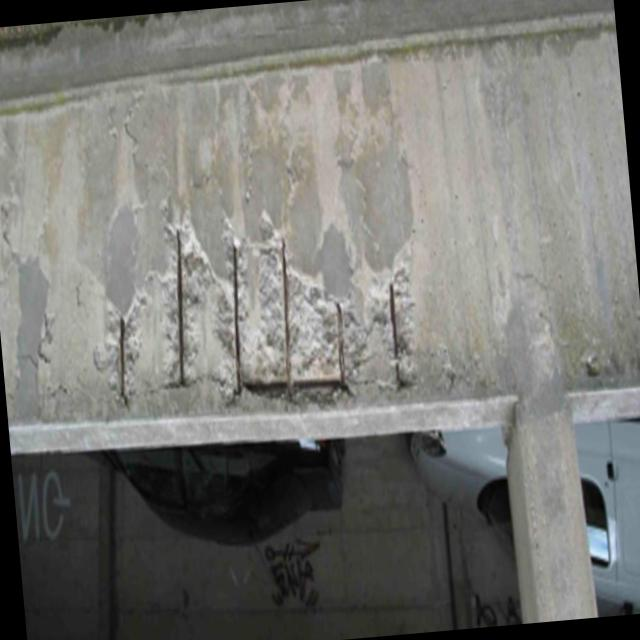spalling: (97, 199, 421, 409)
